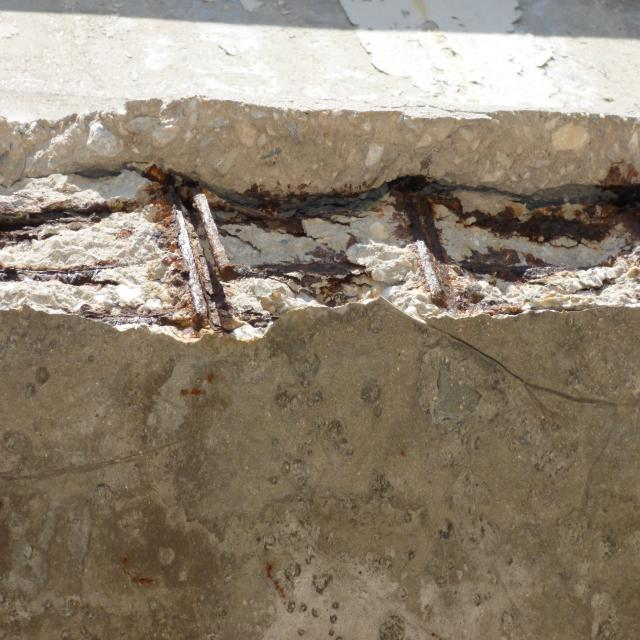corrosion: (0, 158, 640, 324), (114, 541, 166, 598), (174, 359, 218, 415), (262, 552, 290, 608), (0, 484, 25, 533)
